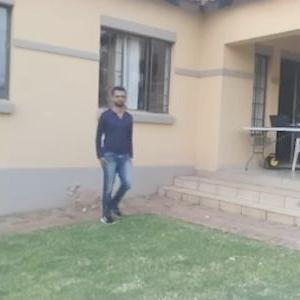follow: (88, 85, 135, 225)
